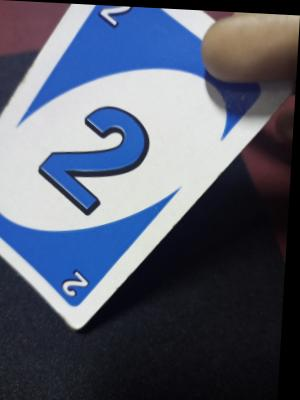blue: (46, 17, 167, 247)
